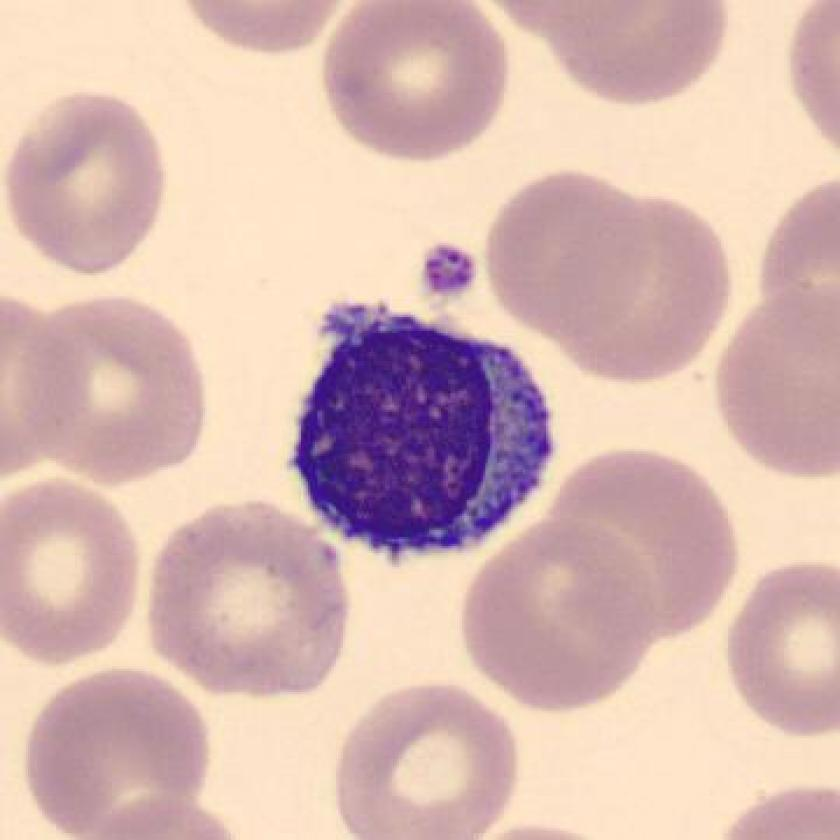lymphocyte: (270, 286, 578, 582)
